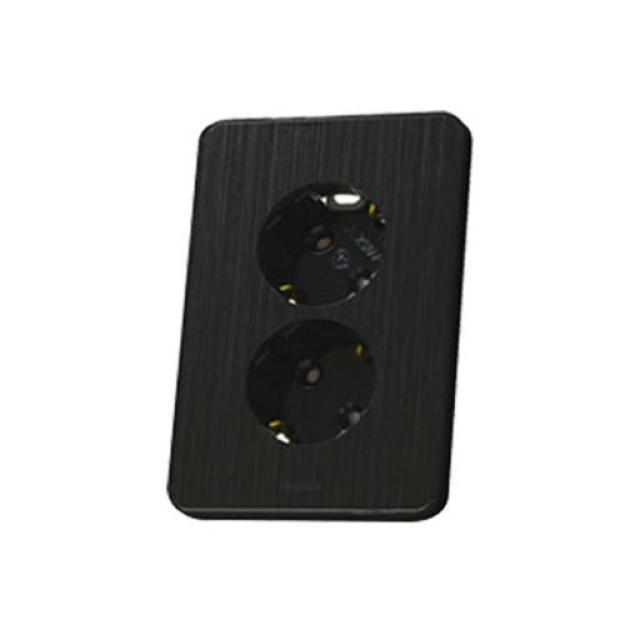typeb: (158, 102, 492, 568)
